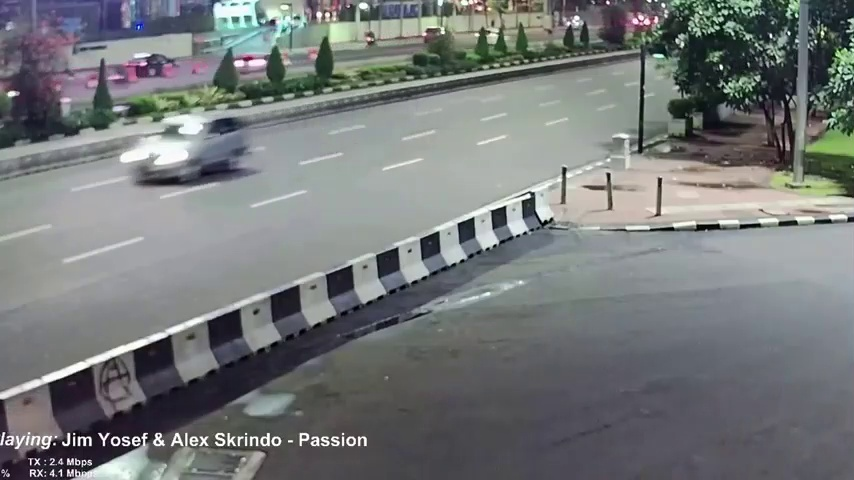car: (131, 112, 248, 181)
